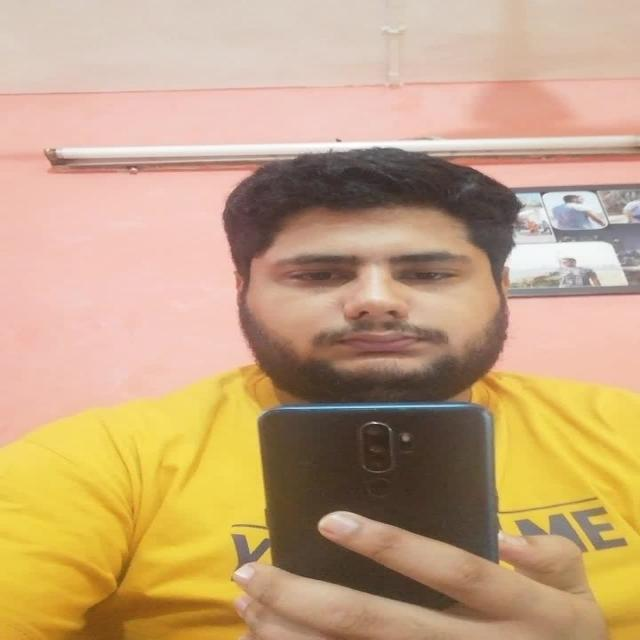Phone: (256, 402, 499, 566)
